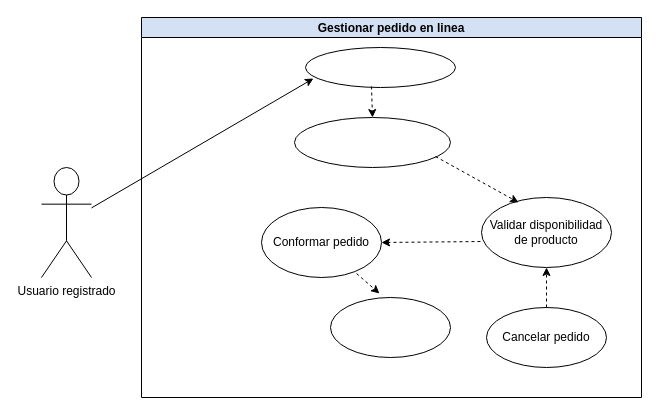
This 659x415 diagram has some shape labels left out. The shapes that lost their labels are listed below. From the top down, each one's centre as x and y in pixels, then its label:
At pixel 380 67: "Crear solicitud de pedido".
At pixel 372 142: "Seleccionar productos".
At pixel 390 327: "Imprimir factura".
